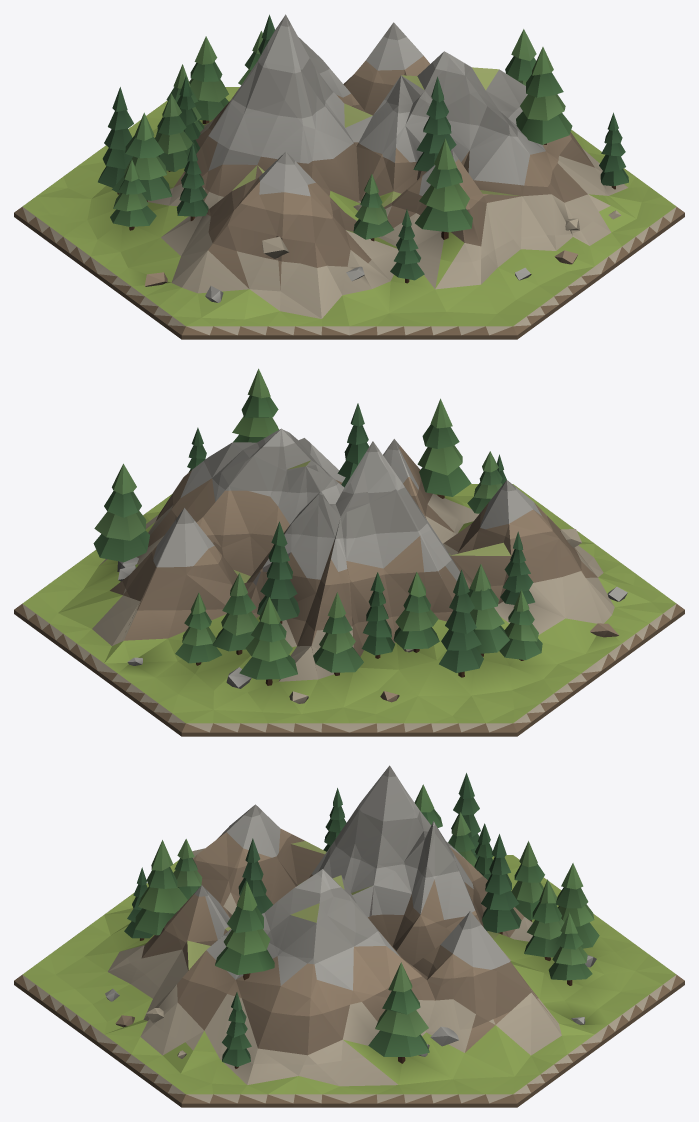
File: mountain_c.glb
3 renders of one model, top to bottom at view 1: azimuth 30°, elevation 25°; view 2: azimuth 150°, elevation 25°; view 3: azimuth 270°, elevation 25°, orthographic.
Visible parts, largest first — view 1: mountain_c; view 2: mountain_c; view 3: mountain_c.
Part boxes in pixels (<box>): mountain_c: <box>14,14,684,339</box>; mountain_c: <box>14,368,684,736</box>; mountain_c: <box>14,765,684,1107</box>.
Bounding box in the file's own units: 17.32 × 6.53 × 20.
